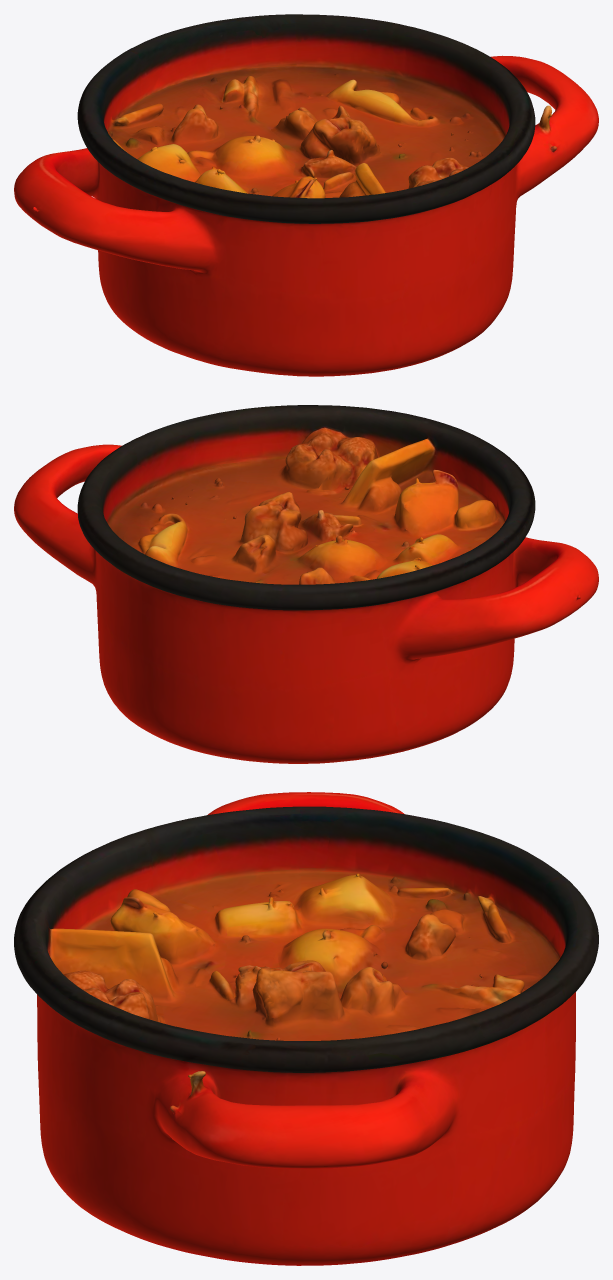
Rendered from stew.glb.
3 views of the same model, one above another, from view 1: azimuth 30°, elevation 25°; view 2: azimuth 150°, elevation 25°; view 3: azimuth 270°, elevation 25° (orthographic). The views are drawn at different scales.
Parts seen in each view (by area): view 1: tripo_node_8588712b-c8e7-48b9-8be3-aee50ee540ba; view 2: tripo_node_8588712b-c8e7-48b9-8be3-aee50ee540ba; view 3: tripo_node_8588712b-c8e7-48b9-8be3-aee50ee540ba.
Boxes of the visible parts, x1,y1,x2,y2 form: tripo_node_8588712b-c8e7-48b9-8be3-aee50ee540ba: (14,14,598,376); tripo_node_8588712b-c8e7-48b9-8be3-aee50ee540ba: (14,405,598,763); tripo_node_8588712b-c8e7-48b9-8be3-aee50ee540ba: (14,792,598,1265).
Size of the model in its own units: 0.9827 by 0.3322 by 0.7239.
Materials: 1 (1 with a texture image).
